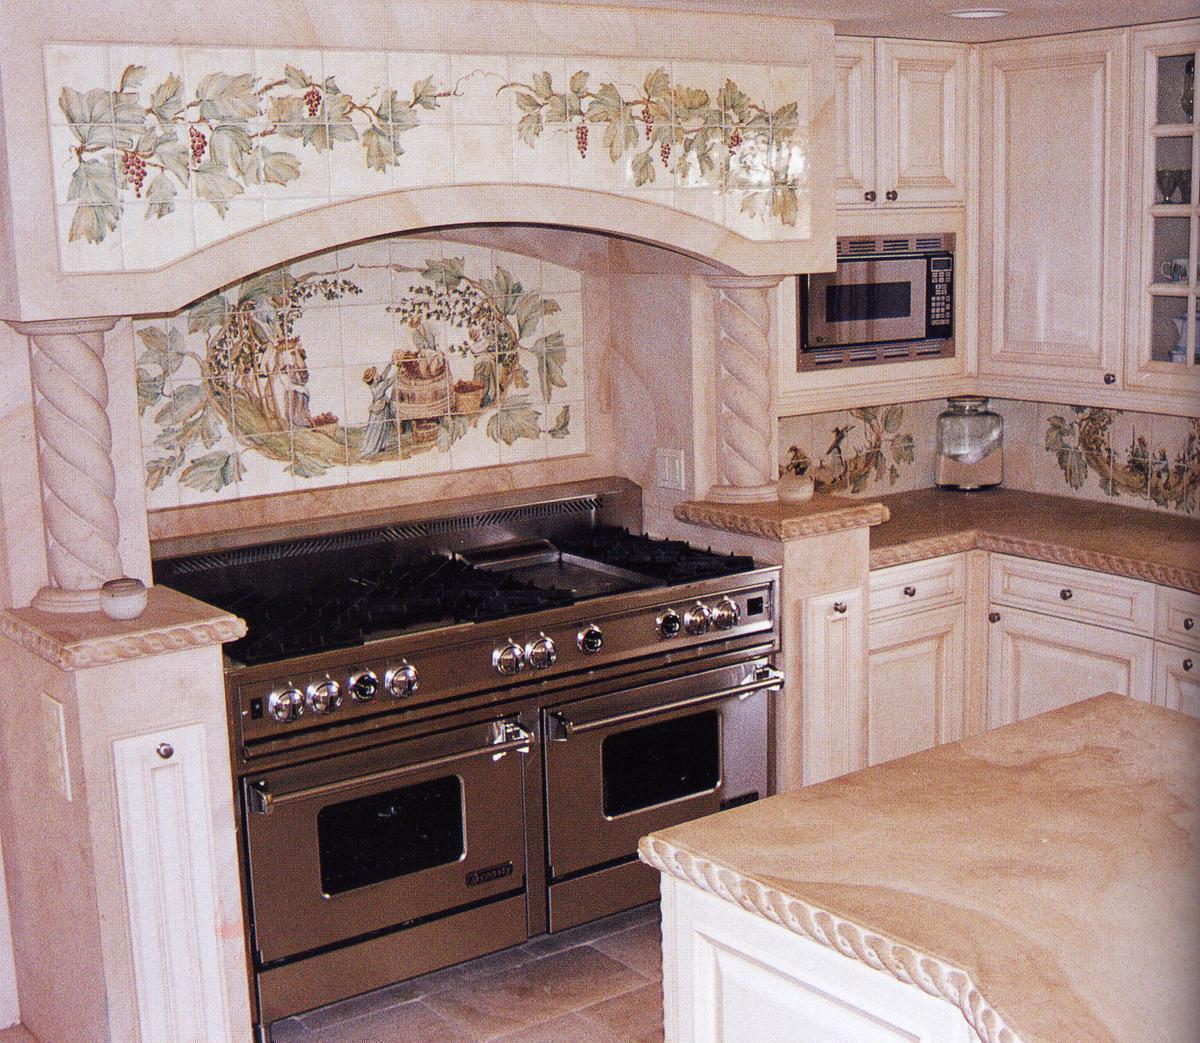Electrodomestico: (214, 580, 536, 955), (497, 548, 776, 791)
